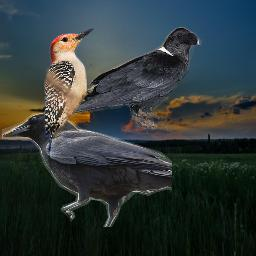Crow: (2, 113, 172, 227), (53, 27, 203, 134)
Woodpecker: (44, 27, 94, 153)
